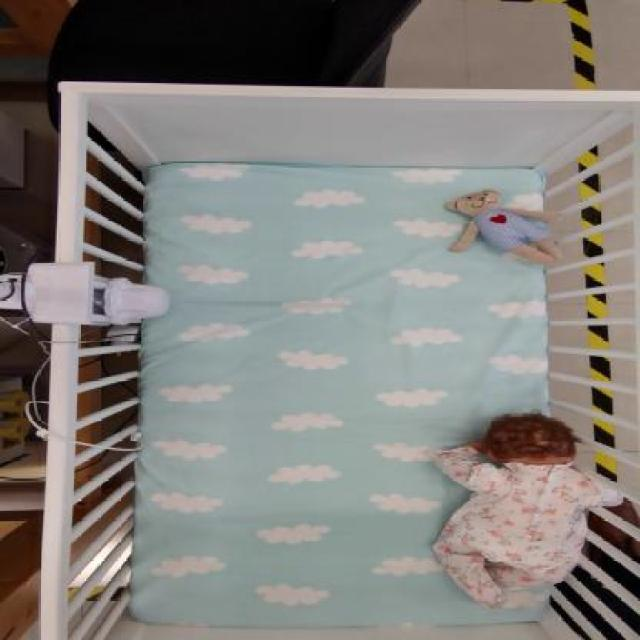baby: (431, 409, 624, 612)
